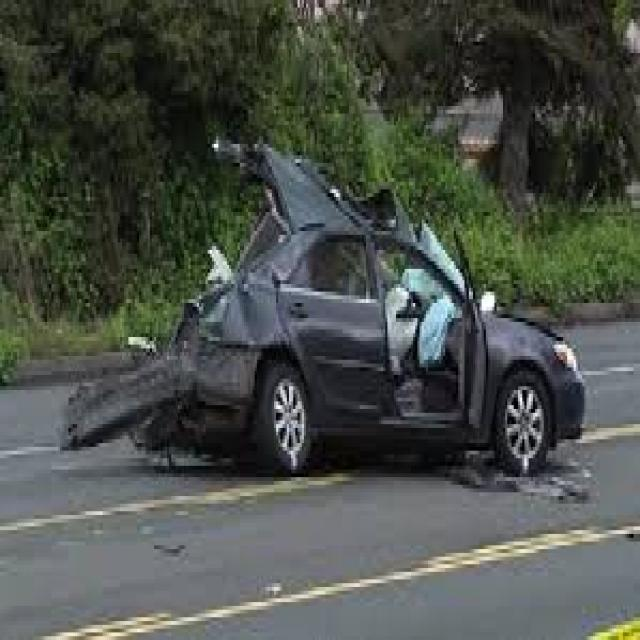accident: (116, 164, 596, 524)
